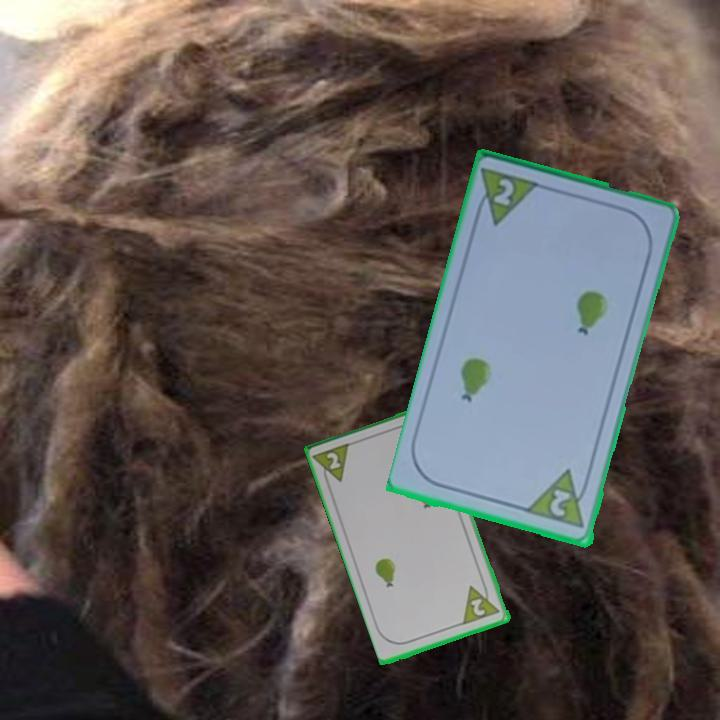2p: (471, 165, 544, 229), (460, 578, 504, 628), (311, 439, 354, 490), (546, 486, 574, 521)
